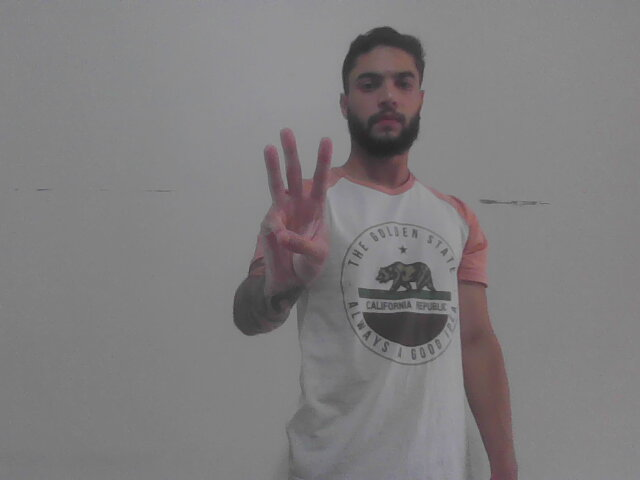w: (259, 123, 335, 298)
